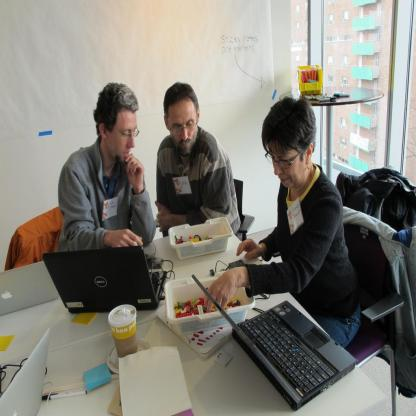board: (192, 275, 358, 410), (42, 246, 168, 314), (0, 327, 50, 415), (0, 260, 60, 316)
